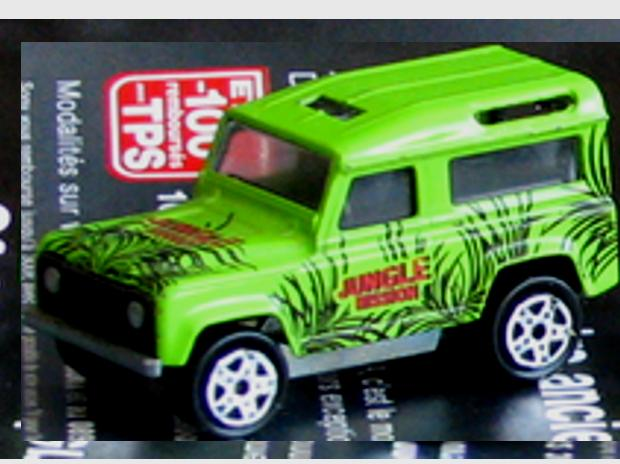toy-car: (21, 42, 620, 441)
